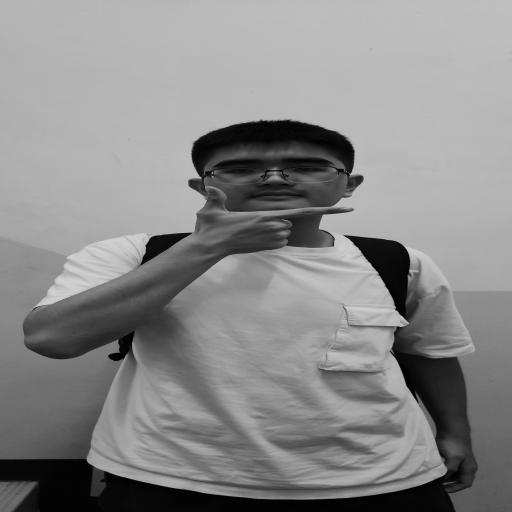next: (167, 181, 370, 263)
